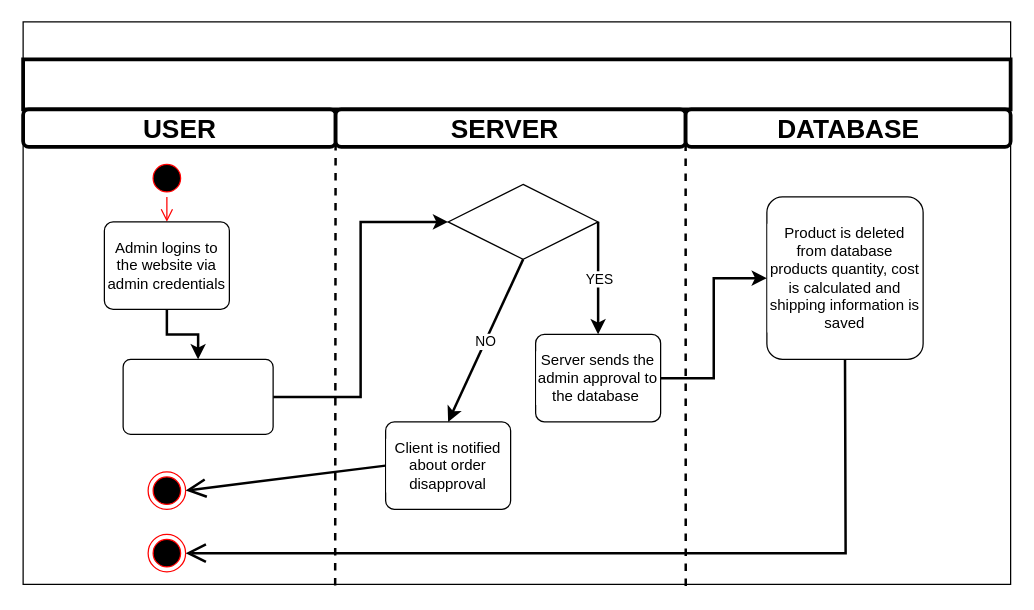
The diagram is 1034 pixels wide and 610 high, and some of its shapes have lost their labels. The shapes that lost their labels are listed below. From the top down, each one's box as (x1, y1, x2, y2) in pixels, then its label:
(21, 57, 1012, 111): ADMIN ROLE ON ORDER APPROVAL
(447, 183, 598, 259): Relationship
(122, 358, 273, 434): Admin enters the orders managing page
